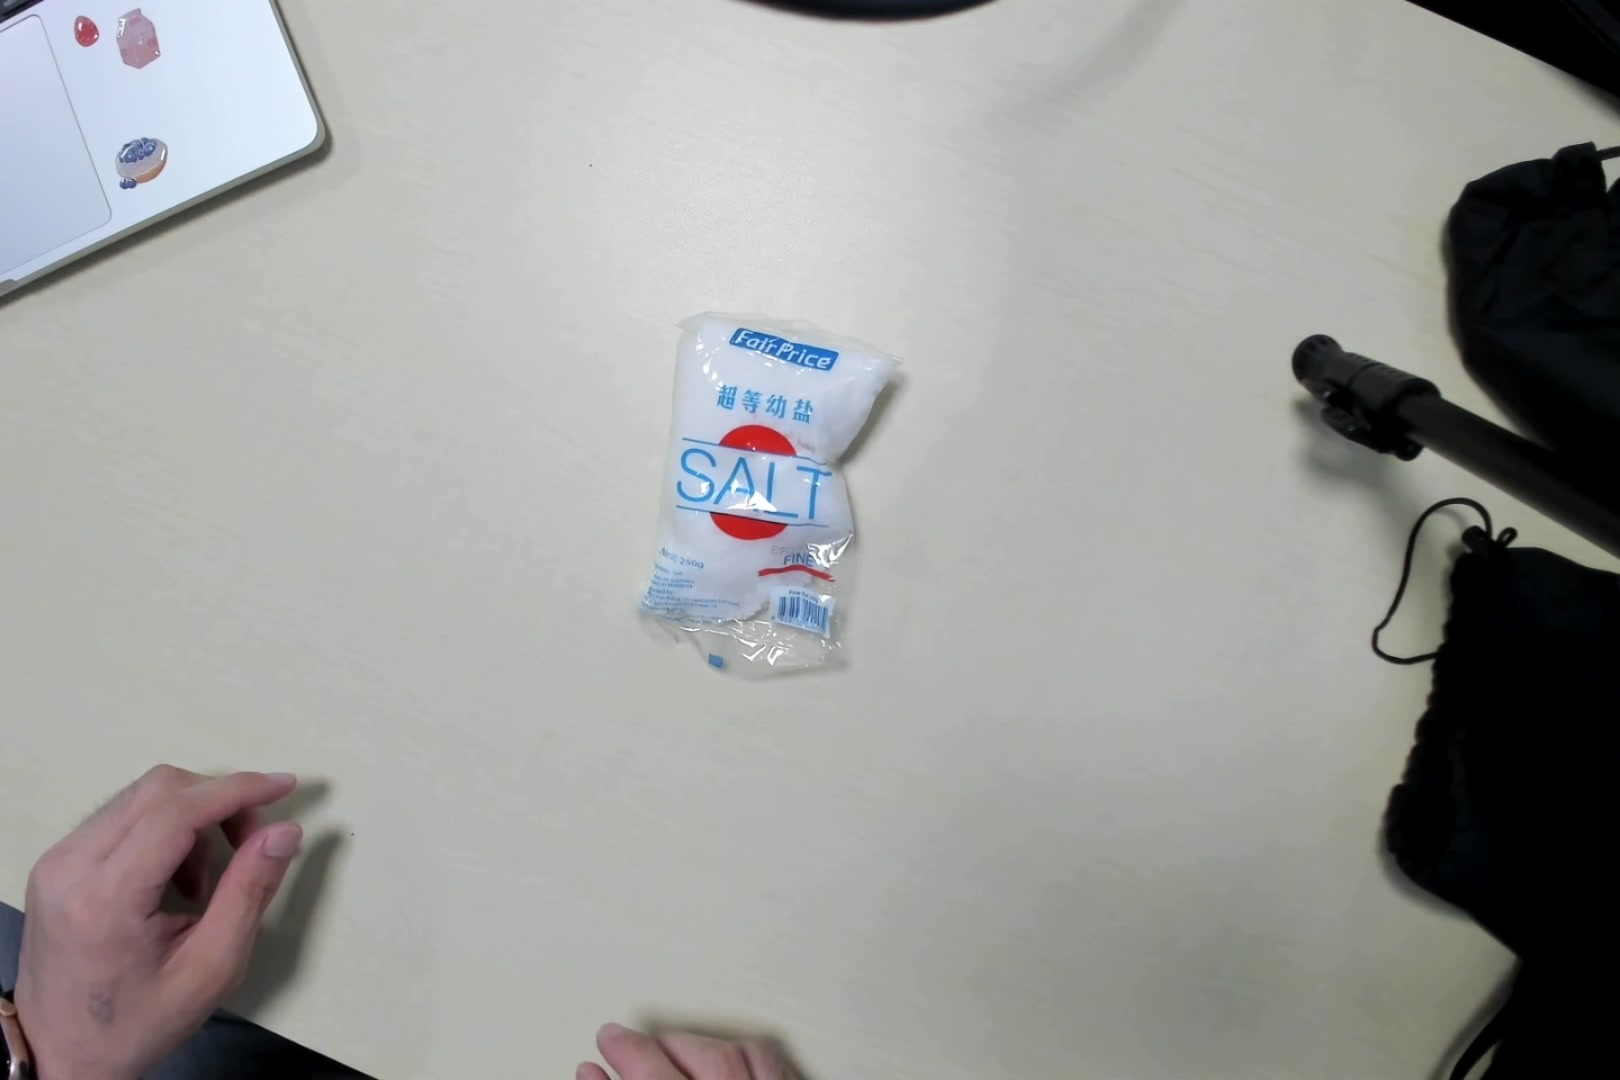Salt_200-299g_Halal_NonHealthy: (642, 304, 903, 683)
